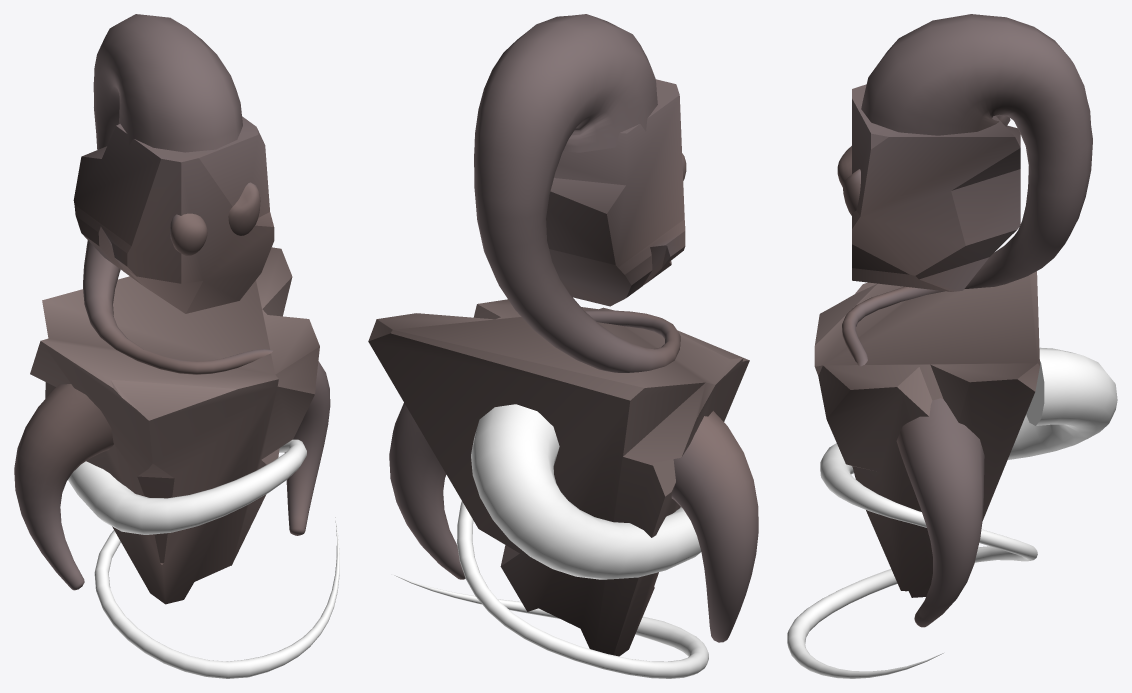
Rendered from Fire_Bishop.fbx.
3 renders of one model, left to right at view 1: azimuth 30°, elevation 25°; view 2: azimuth 150°, elevation 25°; view 3: azimuth 270°, elevation 25°, orthographic. The views are drawn at different scales.
Visible parts, largest first — view 1: Bishop, BezierCurve.001; view 2: Bishop, BezierCurve.001; view 3: Bishop, BezierCurve.001.
Part boxes in pixels (x1=…): Bishop: x1=14, y1=14, x2=330, y2=604; BezierCurve.001: x1=68, y1=439, x2=339, y2=678; Bishop: x1=368, y1=14, x2=758, y2=656; BezierCurve.001: x1=394, y1=404, x2=708, y2=678; Bishop: x1=814, y1=14, x2=1092, y2=627; BezierCurve.001: x1=787, y1=347, x2=1117, y2=678.
Size of the model in its own units: 119 by 213 by 102.
